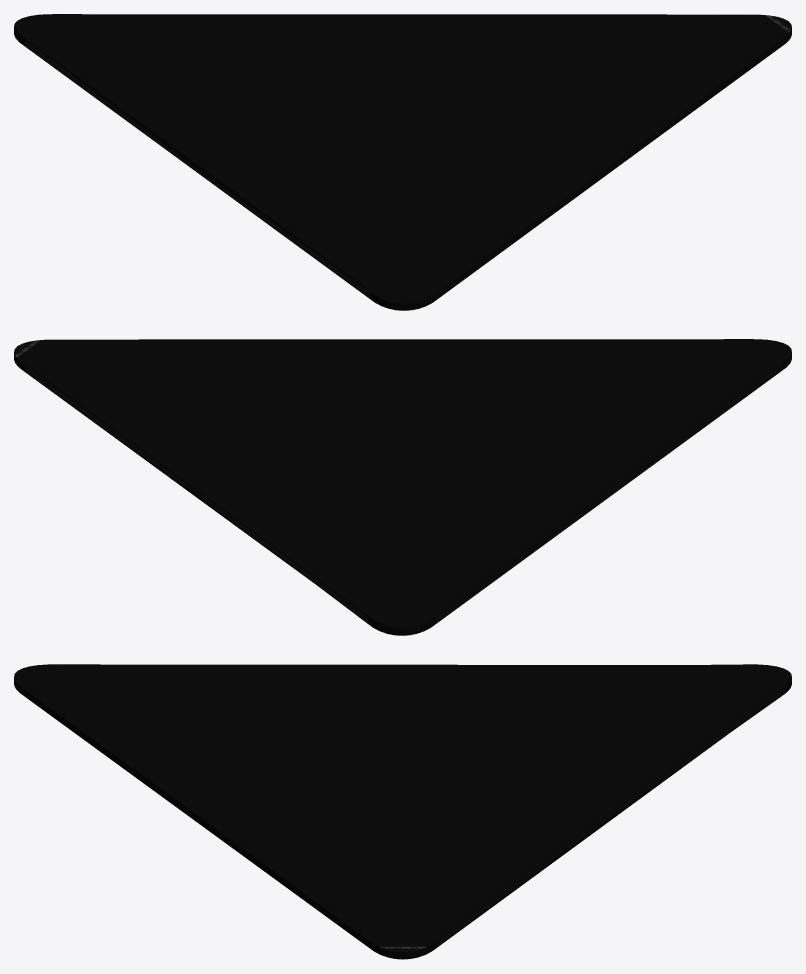
3 views of the same model, one above another, from view 1: azimuth 30°, elevation 25°; view 2: azimuth 150°, elevation 25°; view 3: azimuth 270°, elevation 25° (orthographic).
Parts seen in each view (by area): view 1: Cube.003; view 2: Cube.003; view 3: Cube.003.
Boxes of the visible parts, left/top/right/bottom form: Cube.003: left=14, top=14, right=791, bottom=310; Cube.003: left=14, top=339, right=791, bottom=635; Cube.003: left=14, top=664, right=791, bottom=959.
Size of the model in its own units: 0.0743 by 0.000864 by 0.0849.
Materials: 1 (1 with a texture image).
